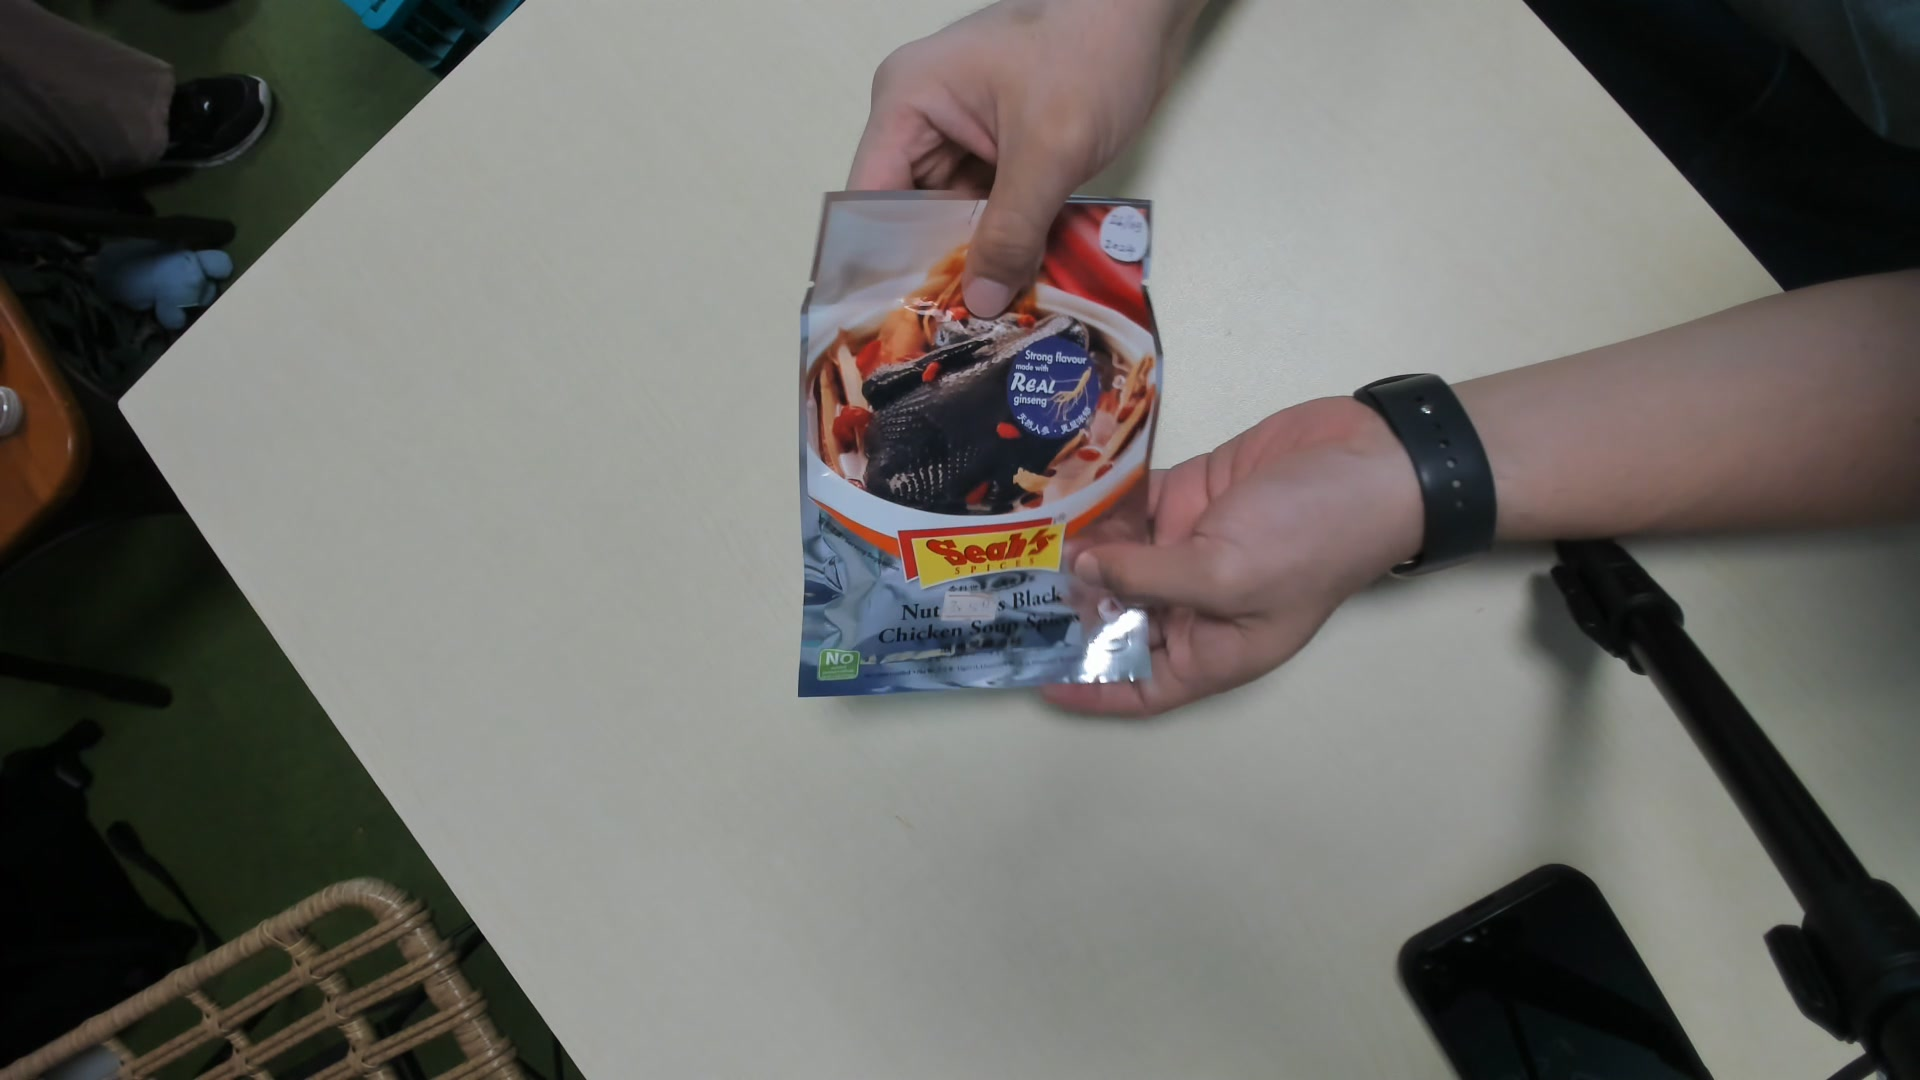OtherSauceDressing_0-99g_NonHalal_NonHealthy: (798, 189, 1168, 696)
